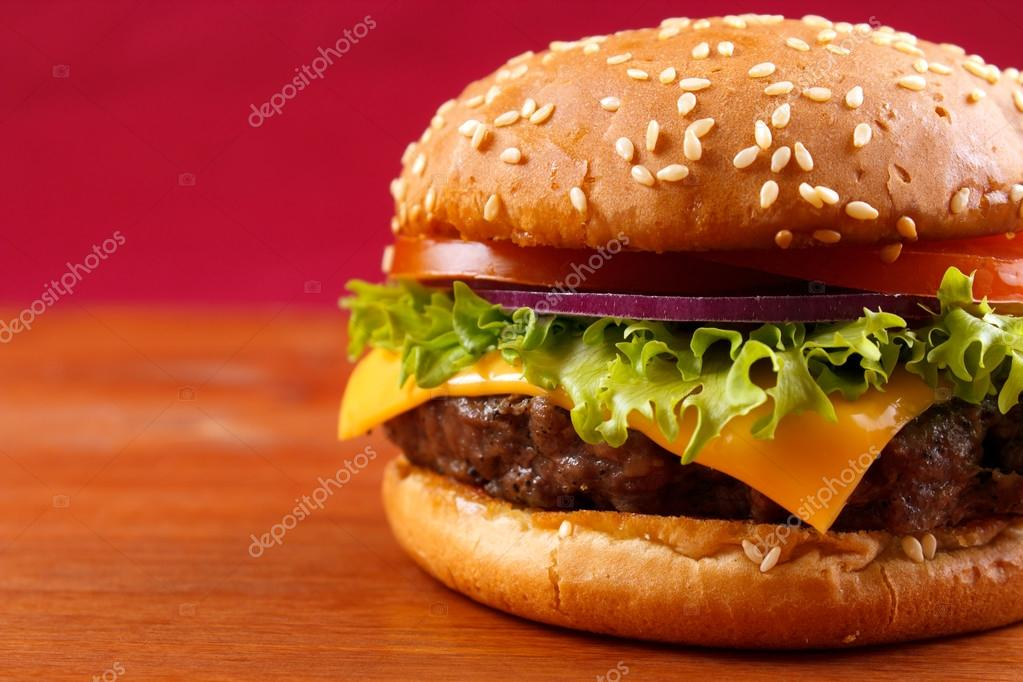hamburger: (367, 22, 1023, 655)
